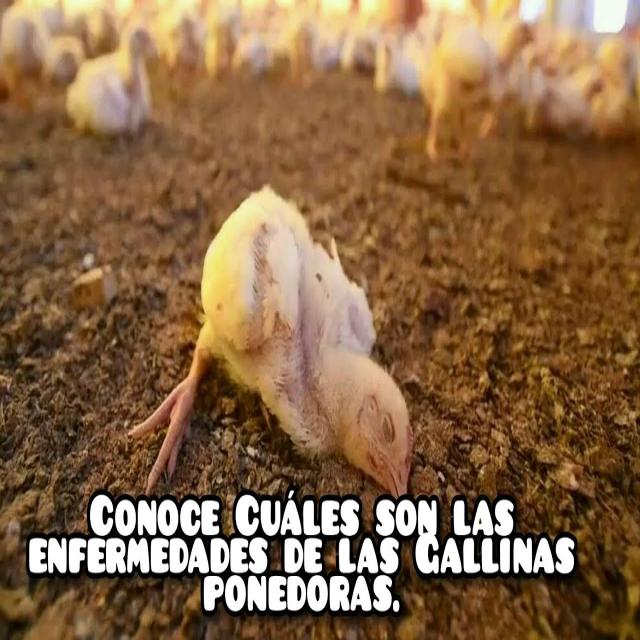Unhealthy: (128, 181, 444, 483)
